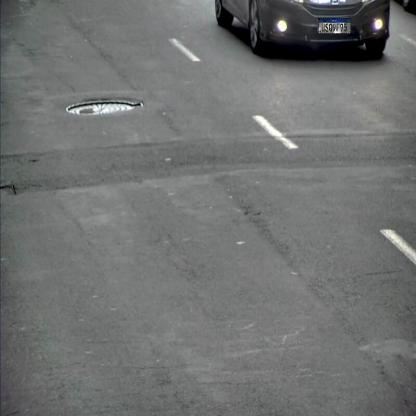PlacaM: (318, 18, 351, 34)
